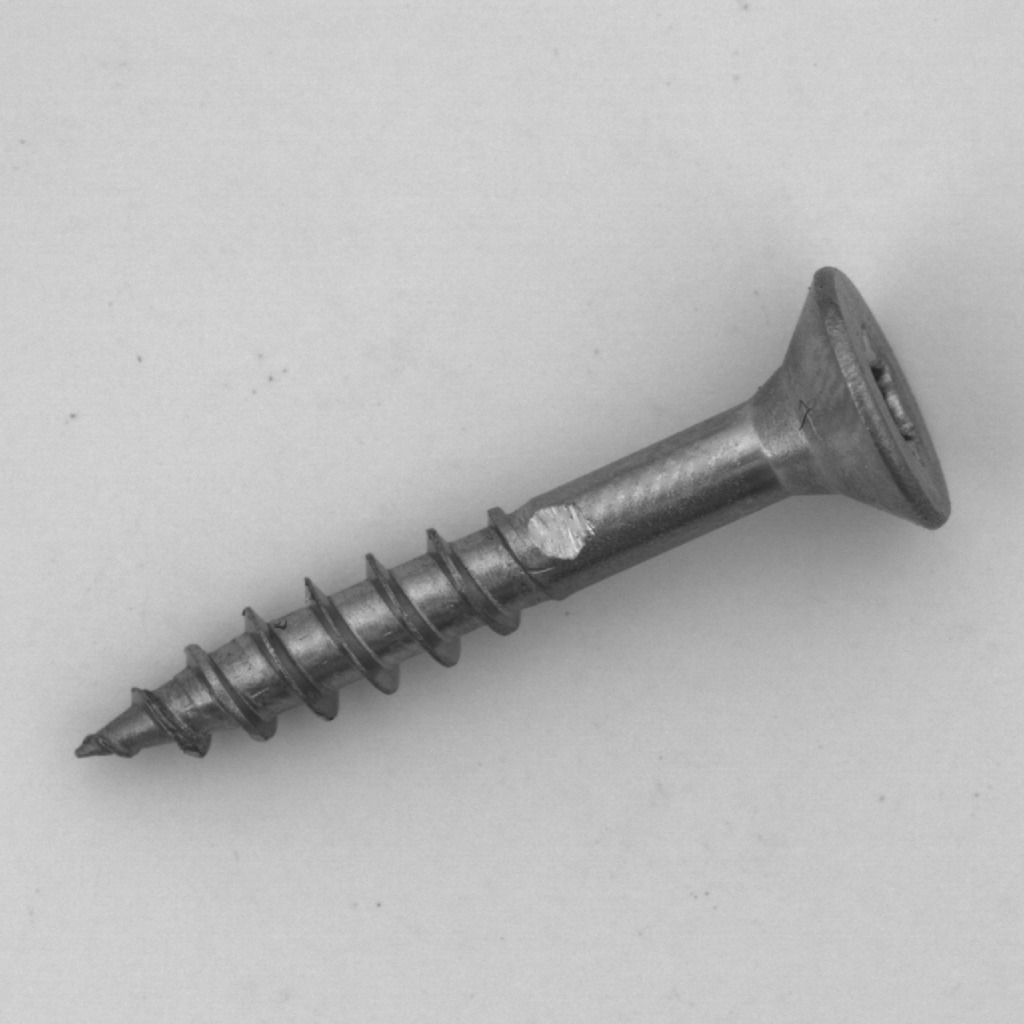scratch_neck: (443, 451, 654, 654)
